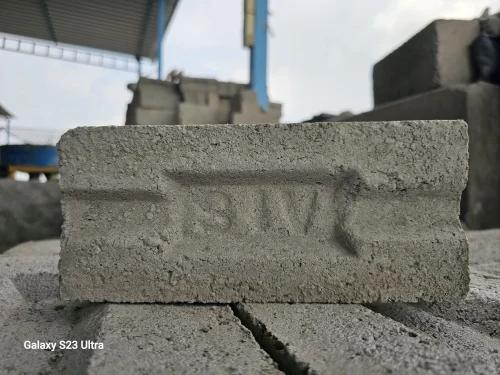brick: (57, 117, 471, 304)
